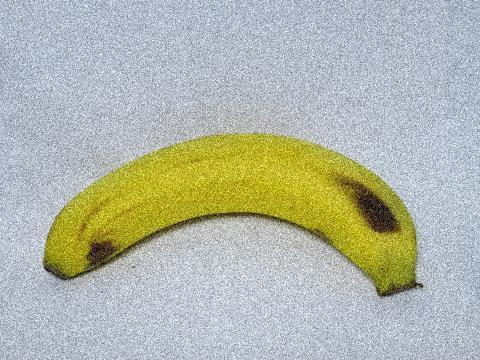freshripe: (27, 124, 441, 311)
